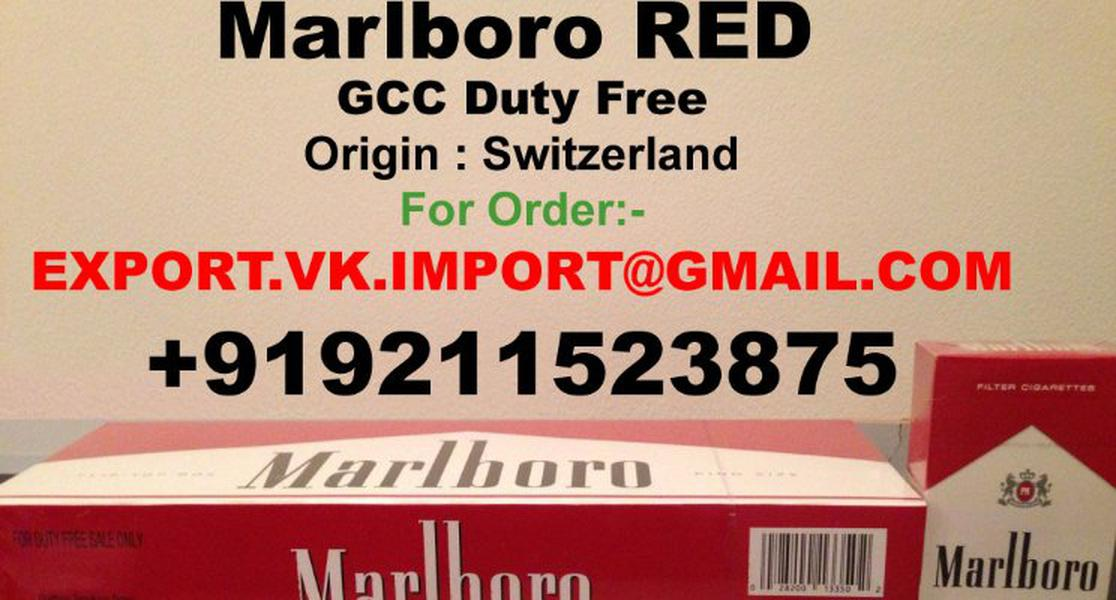marlboro_red: (929, 357, 1116, 599)
